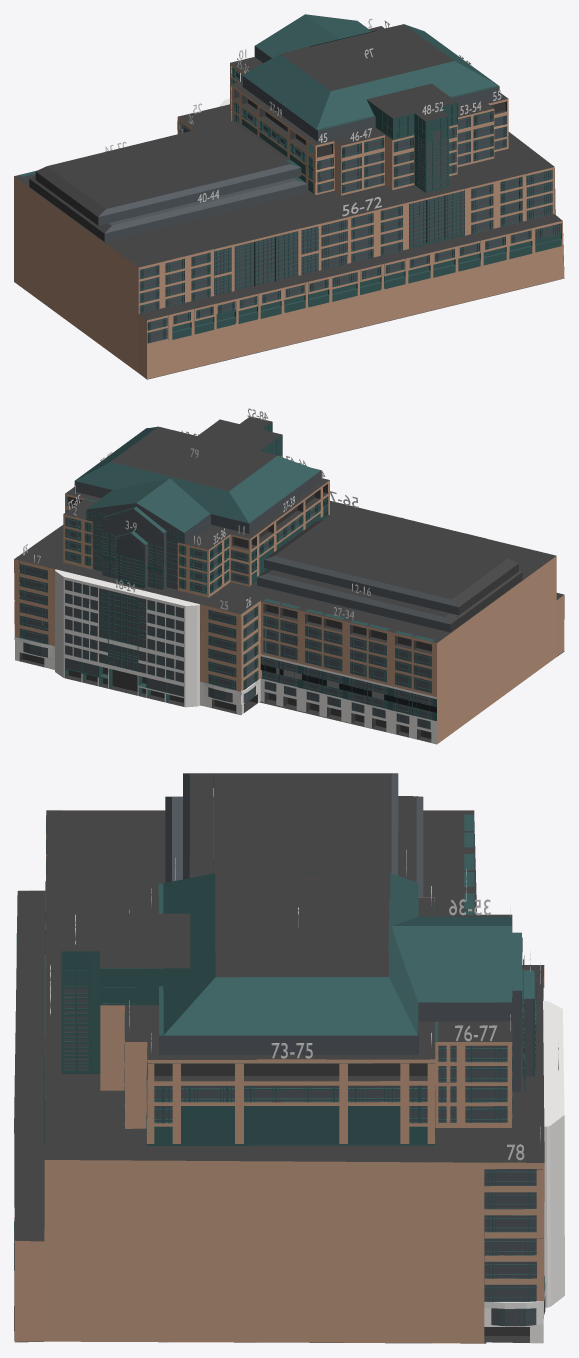
File: 155Bishopsgate.glb
3 views of the same model, one above another, from view 1: azimuth 30°, elevation 25°; view 2: azimuth 150°, elevation 25°; view 3: azimuth 270°, elevation 25° (orthographic). The views are drawn at different scales.
Parts seen in each view (by area): view 1: 155, Drop79, Drop40, Drop41, Drop43, Drop44, Drop72, Drop64, Drop56, Drop42, Drop66, Drop65 (+19 smaller); view 2: 155, Drop79, Drop17, Drop25, Drop6, Drop21, Drop16, Drop15, Drop23, Drop24, Drop18, Drop13 (+21 smaller); view 3: 155, Drop79, Drop78, Drop74, Drop77, Drop51, Drop5, Drop76.
Boxes of the visible parts, <box> form: 155: <box>14,14,564,379</box>; Drop79: <box>242,21,499,141</box>; Drop40: <box>98,200,150,241</box>; Drop41: <box>144,189,195,230</box>; Drop43: <box>222,171,268,211</box>; Drop44: <box>260,164,307,201</box>; Drop72: <box>526,170,561,239</box>; Drop64: <box>321,219,357,286</box>; Drop56: <box>139,265,167,342</box>; Drop42: <box>187,181,230,219</box>; Drop66: <box>380,206,404,273</box>; Drop65: <box>351,213,380,279</box>; 155: <box>14,416,564,744</box>; Drop79: <box>74,470,321,542</box>; Drop17: <box>19,564,48,657</box>; Drop25: <box>208,610,236,702</box>; Drop6: <box>116,518,147,587</box>; Drop21: <box>109,590,137,671</box>; Drop16: <box>407,591,458,632</box>; Drop15: <box>365,580,415,621</box>; Drop23: <box>147,600,164,691</box>; Drop24: <box>166,604,183,696</box>; Drop18: <box>65,580,81,671</box>; Drop13: <box>294,563,337,602</box>; 155: <box>14,773,564,1343</box>; Drop79: <box>158,895,512,1054</box>; Drop78: <box>484,1169,536,1326</box>; Drop74: <box>181,1085,400,1101</box>; Drop77: <box>465,1045,507,1121</box>; Drop51: <box>63,988,88,1069</box>; Drop5: <box>512,983,523,1091</box>; Drop76: <box>438,1045,456,1121</box>.
Size of the model in its own units: 197 by 87.44 by 129.
